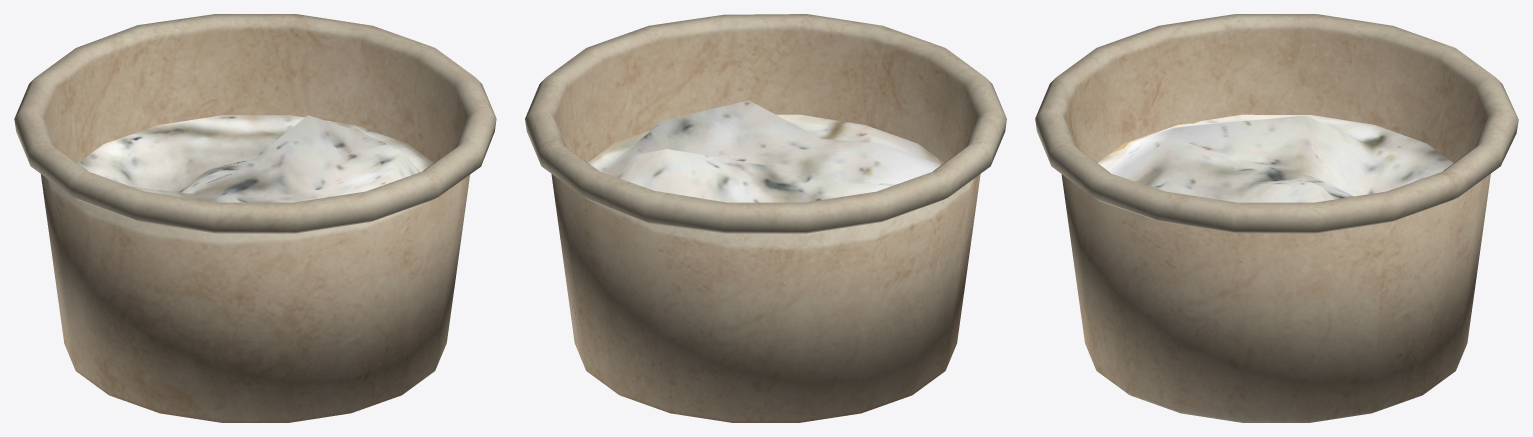
The model's file is ranch.glb.
The picture shows the model from 3 angles, left to right: view 1: azimuth 30°, elevation 25°; view 2: azimuth 150°, elevation 25°; view 3: azimuth 270°, elevation 25°; orthographic projection.
Visible parts, largest first — view 1: ranch_sauce; view 2: ranch_sauce; view 3: ranch_sauce.
Boxes of the visible parts, x1=… form: ranch_sauce: x1=14, y1=14, x2=496, y2=422; ranch_sauce: x1=525, y1=14, x2=1006, y2=422; ranch_sauce: x1=1035, y1=14, x2=1518, y2=422.
Size of the model in its own units: 1.49 by 0.806 by 1.51.
Materials: 1 (1 with a texture image).
